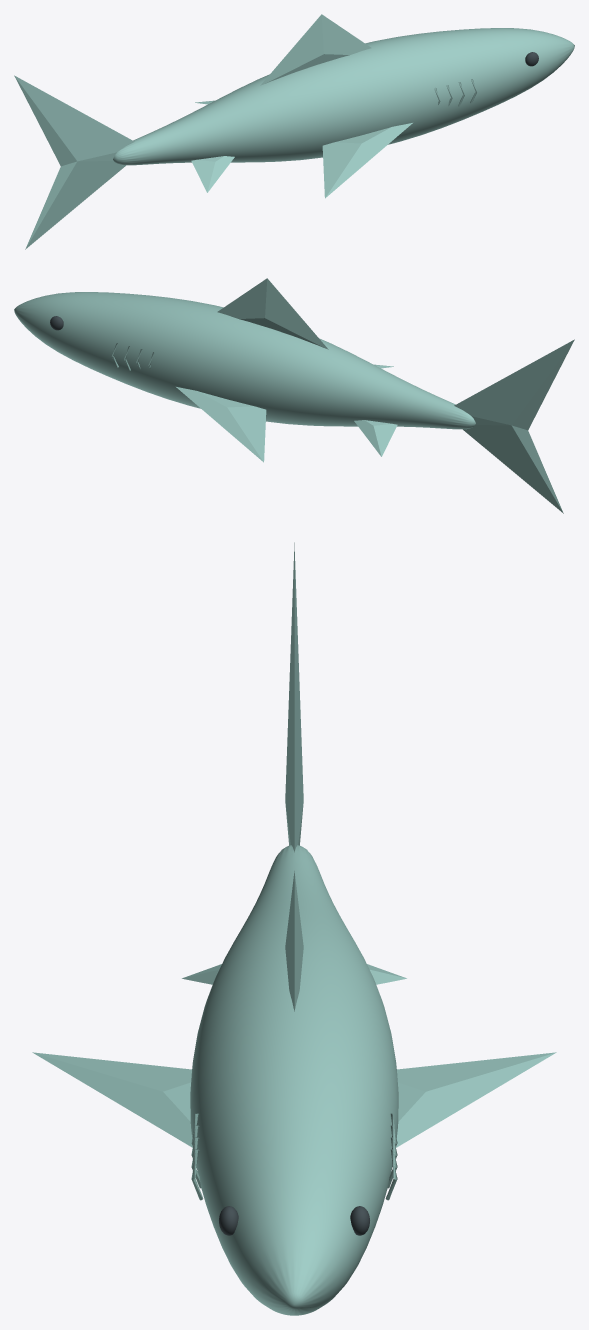
The picture shows the model from 3 angles, top to bottom: view 1: azimuth 30°, elevation 25°; view 2: azimuth 150°, elevation 25°; view 3: azimuth 270°, elevation 25°; orthographic projection. The views are drawn at different scales.
Visible parts, largest first — view 1: Body, Tail, Dorsal, Pectoral, Pelvic; view 2: Body, Tail, Dorsal, Pectoral.001, Pelvic.001; view 3: Body, Pectoral.001, Pectoral, Tail, Dorsal.
Boxes of the visible parts, left/top/right/bottom form: Body: left=113, top=28, right=574, bottom=165; Tail: left=14, top=75, right=134, bottom=249; Dorsal: left=260, top=14, right=371, bottom=85; Pectoral: left=322, top=123, right=412, bottom=198; Pelvic: left=191, top=156, right=234, bottom=192; Body: left=14, top=292, right=475, bottom=429; Tail: left=454, top=339, right=574, bottom=513; Dorsal: left=217, top=278, right=328, bottom=349; Pectoral.001: left=176, top=387, right=266, bottom=462; Pelvic.001: left=354, top=420, right=397, bottom=456; Body: left=190, top=845, right=398, bottom=1315; Pectoral.001: left=396, top=1052, right=556, bottom=1147; Pectoral: left=32, top=1052, right=192, bottom=1147; Tail: left=285, top=542, right=303, bottom=852; Dorsal: left=285, top=871, right=303, bottom=1011.
Bounding box in the file's own units: 252 × 76 × 102.
